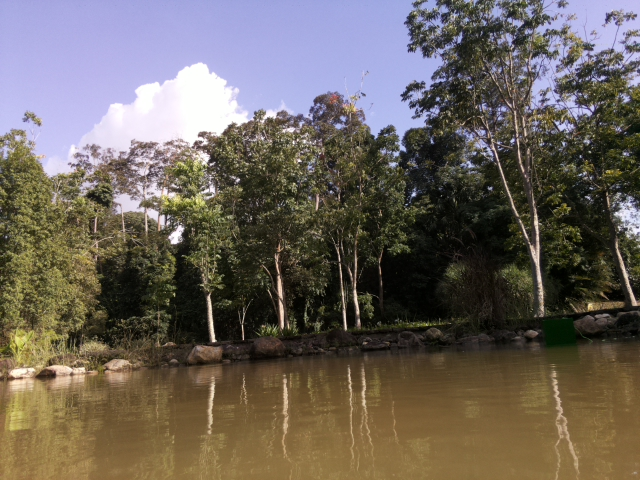obstacle: (522, 341, 562, 419)
